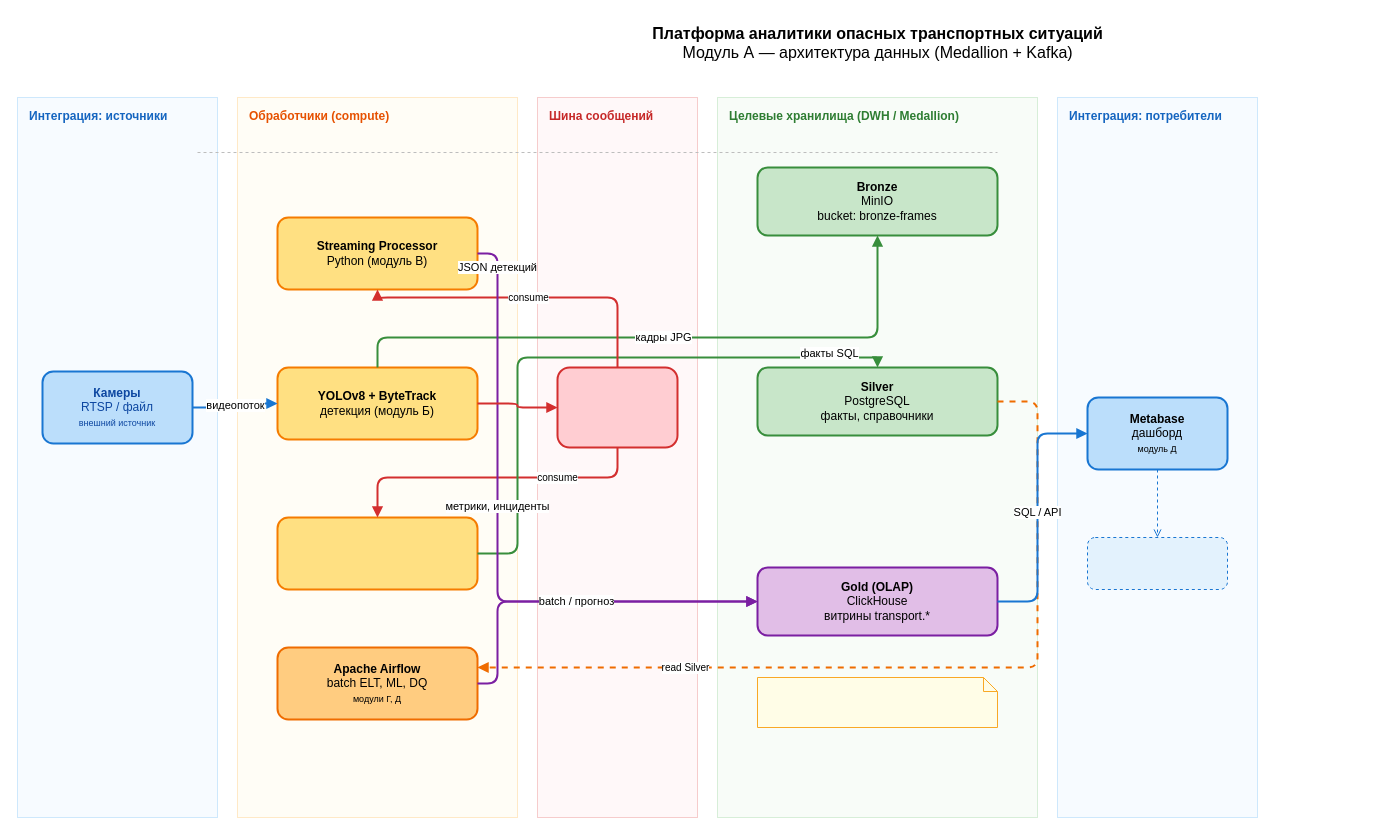
Image size: 1395x835. Some labels were removed from this diagram. Here are the shapes that lost their labels. From the top down, the centre of each, then its label:
the point at 617,407: Apache Kafka raw_detections буфер NF1
the point at 377,553: Silver Loader kafka_to_silver.py модуль А
the point at 1157,563: Оператор / эксперт
the point at 877,702: Medallion: Bronze → Silver → Gold
